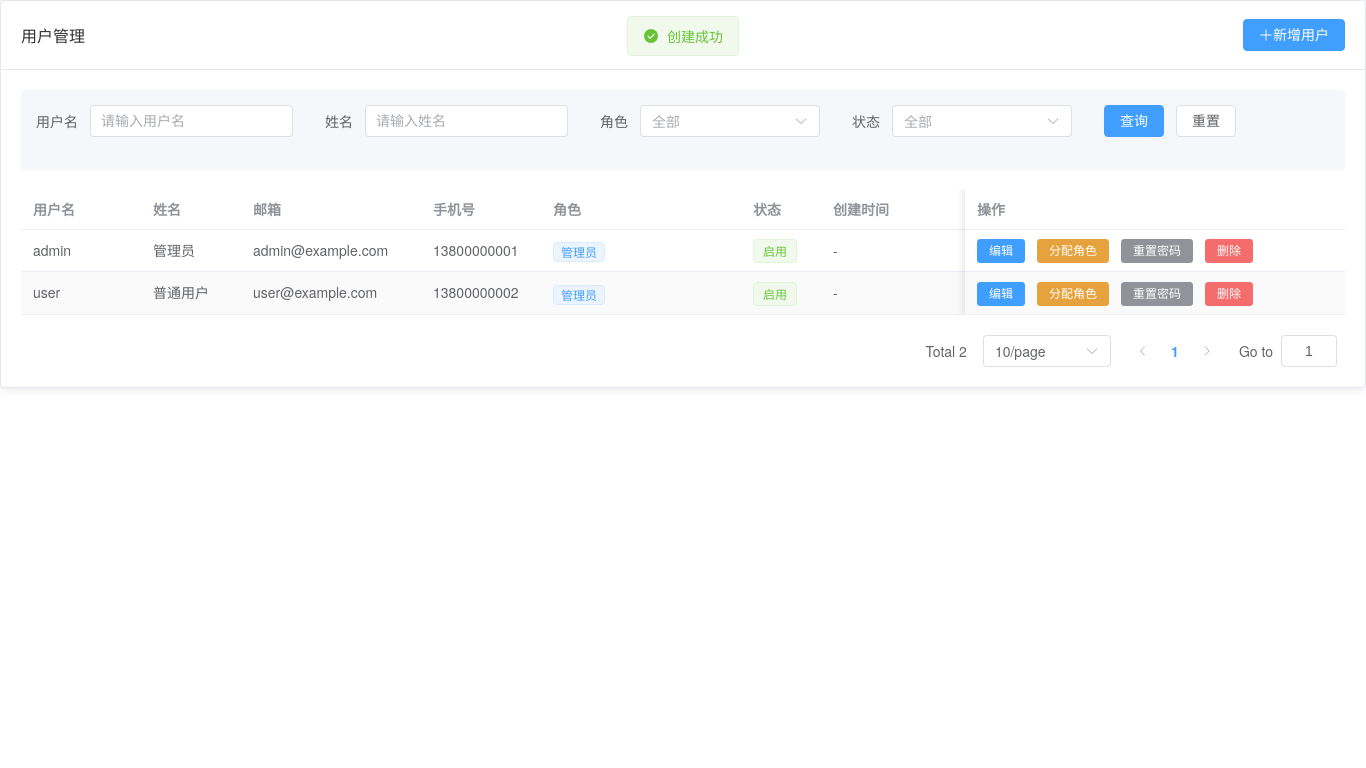
Test case: UserManagement.vue › Submit_MissingRealName_Blocked：姓名留空被拦截且弹窗保持打开
Click the button "新增用户" at {"x": 1294, "y": 35}, box left=1243, top=19, right=1345, bottom=51
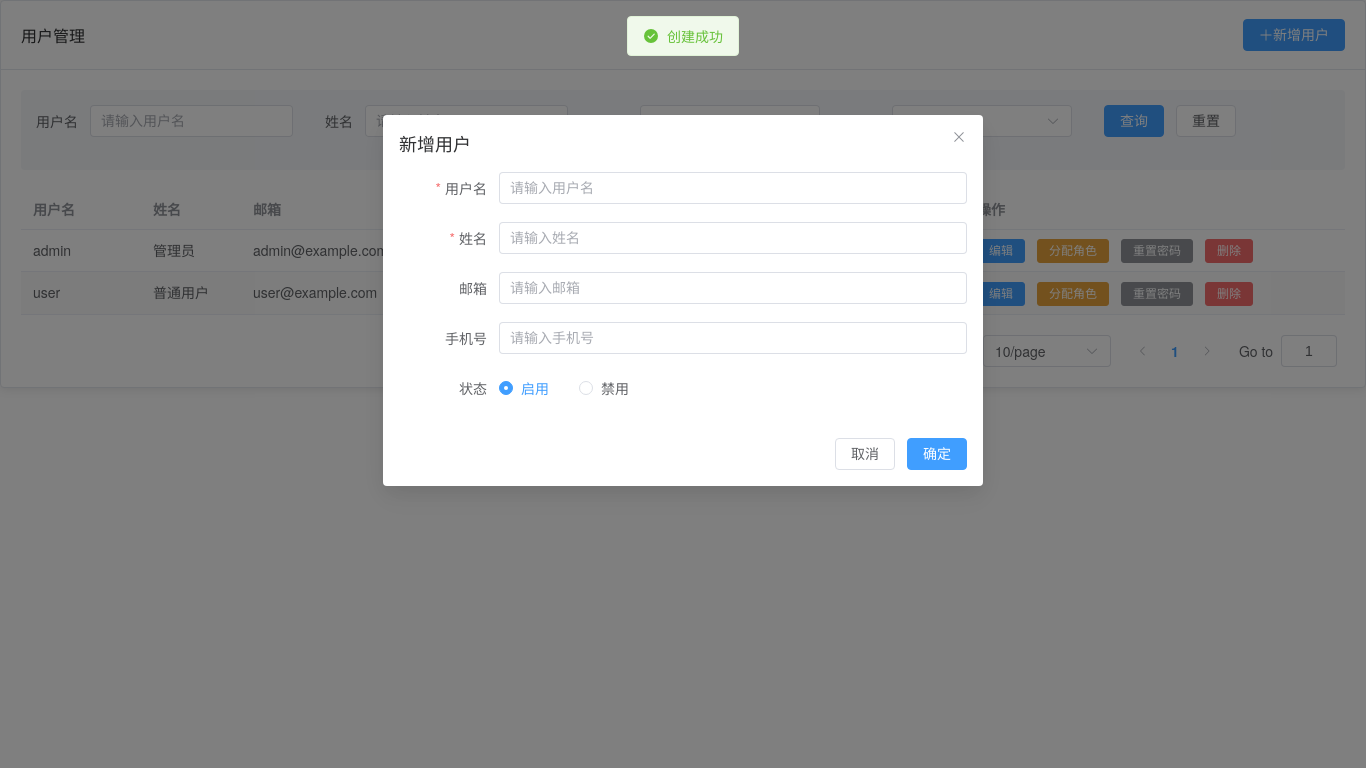
Type "zhangsan" into the field with id "username" at {"x": 733, "y": 188}, box left=510, top=173, right=956, bottom=203
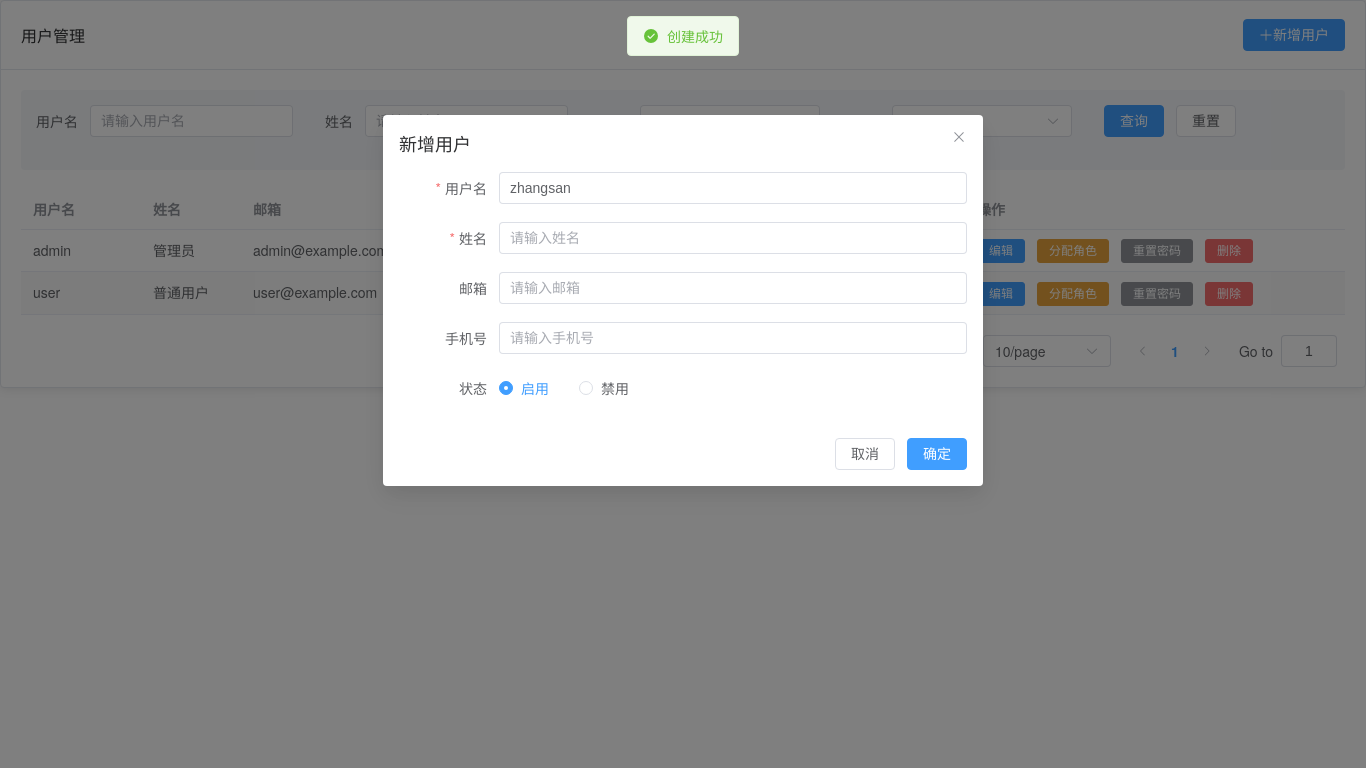
Check: the button "确定" is shown
Click the button "确定" at {"x": 937, "y": 454}, box left=907, top=438, right=967, bottom=470
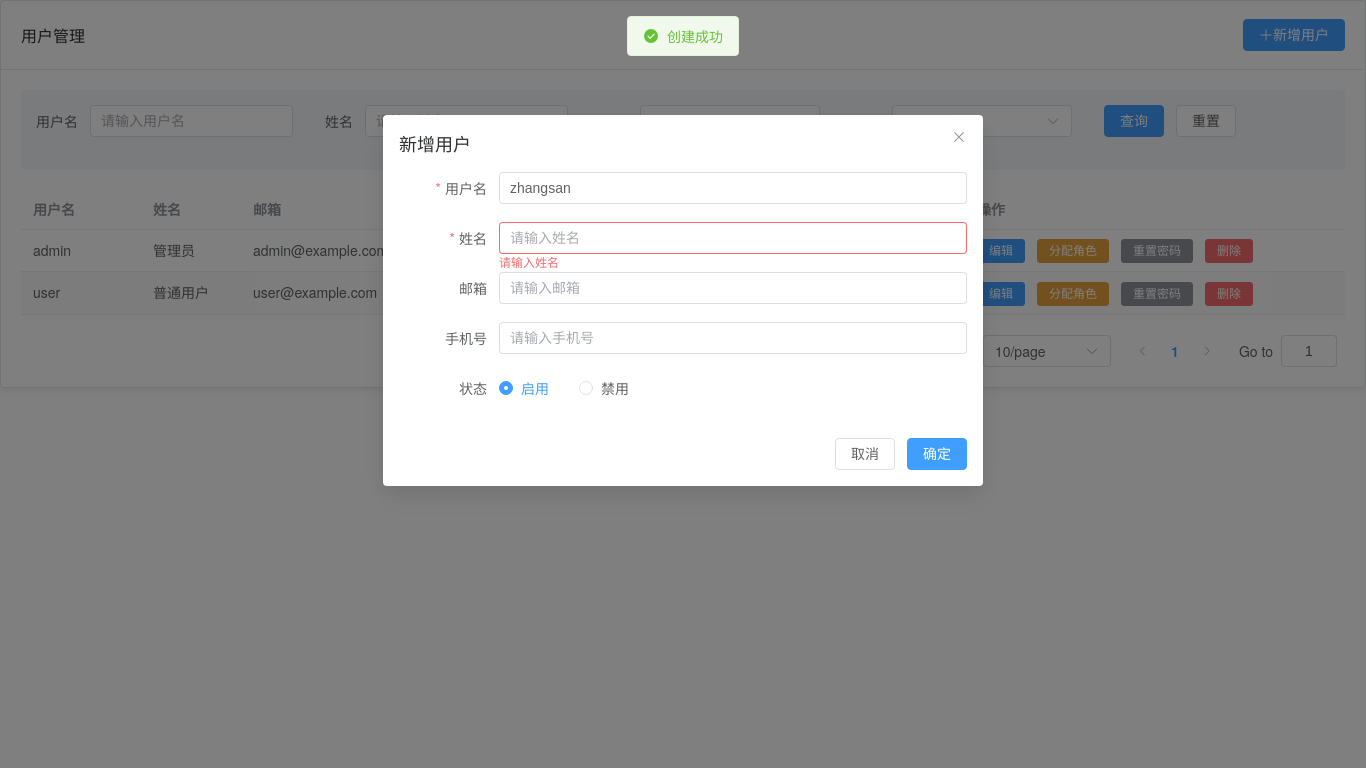
Check: the text "请输入姓名" is shown, box left=499, top=254, right=559, bottom=268
